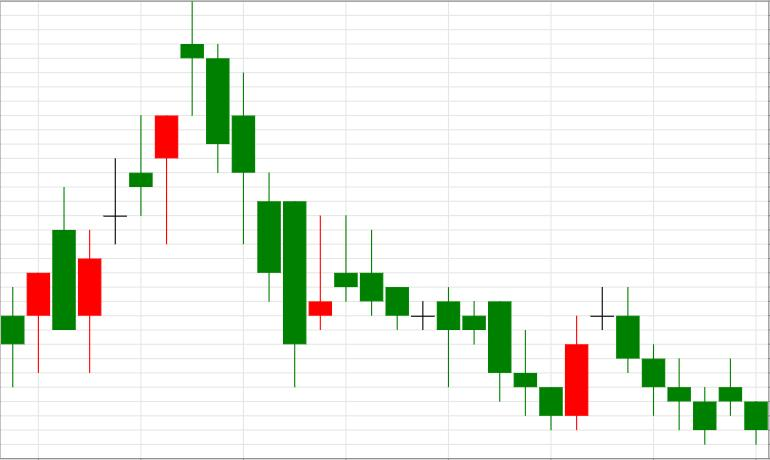bullish_engulfing_rise: (334, 216, 588, 431)
evening_star_fall: (79, 0, 229, 372)
hanging_man_fall: (78, 116, 178, 372)
